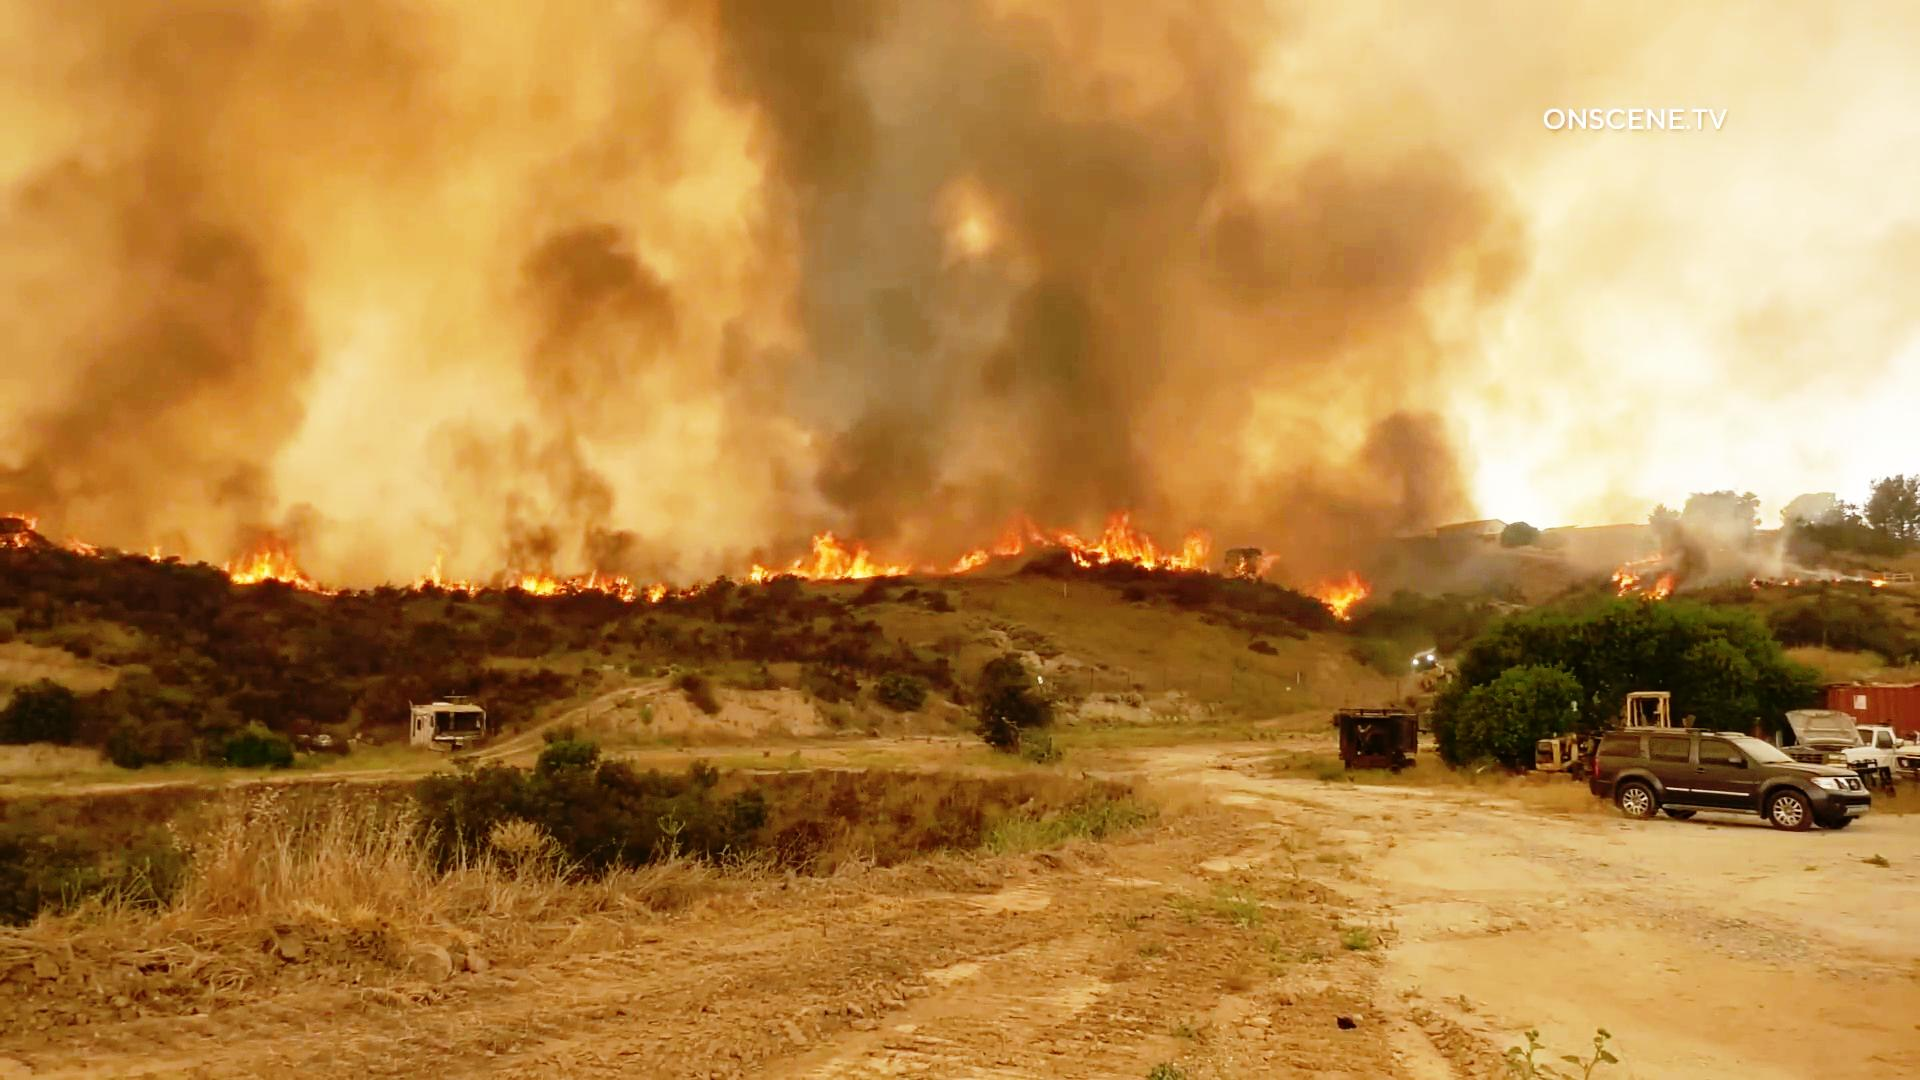smoke: (705, 16, 955, 491)
